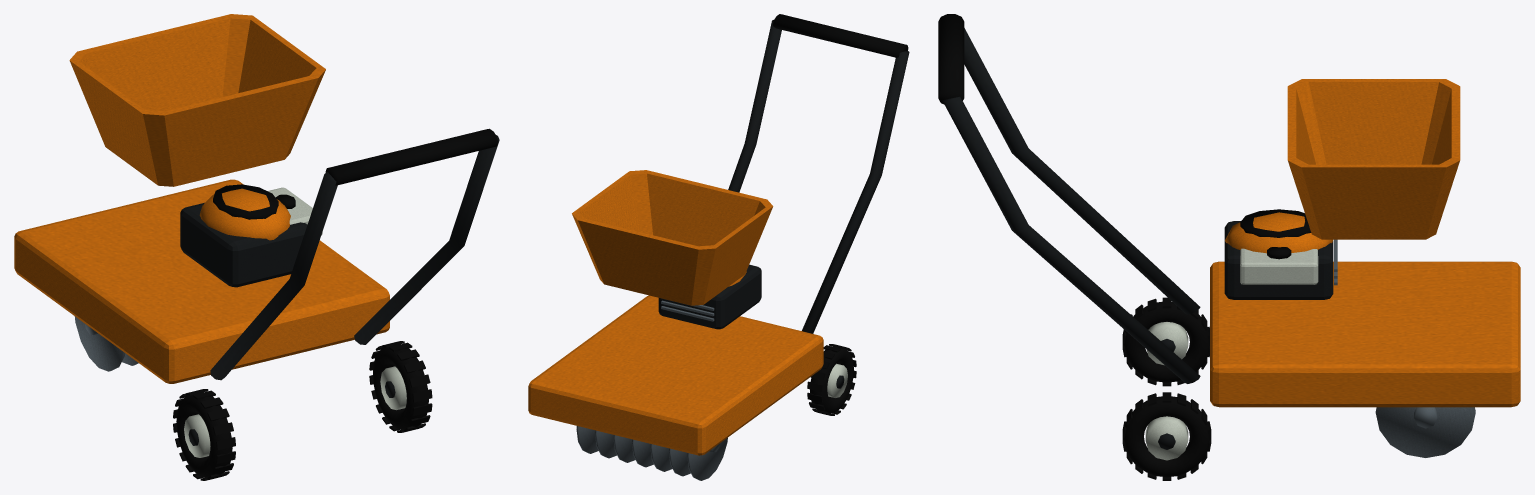
The model's file is SlitOverseeder.gltf.
The picture shows the model from 3 angles, left to right: view 1: azimuth 30°, elevation 25°; view 2: azimuth 150°, elevation 25°; view 3: azimuth 270°, elevation 25°; orthographic projection. The views are drawn at different scales.
Parts seen in each view (by area): view 1: SlitOverseeder__Body, SlitOverseeder__Wheel_Rear-1, SlitOverseeder__Wheel_Rear1, SlitOverseeder__Wheel_Blades; view 2: SlitOverseeder__Body, SlitOverseeder__Wheel_Blades, SlitOverseeder__Wheel_Rear-1; view 3: SlitOverseeder__Body, SlitOverseeder__Wheel_Rear1, SlitOverseeder__Wheel_Rear-1, SlitOverseeder__Wheel_Blades.
Part boxes in pixels (x1,y1,x2,y2): SlitOverseeder__Body: (14,14,499,383); SlitOverseeder__Wheel_Rear-1: (173,389,235,480); SlitOverseeder__Wheel_Rear1: (369,341,432,432); SlitOverseeder__Wheel_Blades: (74,316,138,371); SlitOverseeder__Body: (528,14,909,455); SlitOverseeder__Wheel_Blades: (576,426,727,480); SlitOverseeder__Wheel_Rear-1: (807,344,856,415); SlitOverseeder__Body: (938,14,1520,407); SlitOverseeder__Wheel_Rear1: (1122,392,1211,480); SlitOverseeder__Wheel_Rear-1: (1122,297,1209,386); SlitOverseeder__Wheel_Blades: (1375,407,1475,457).
Size of the model in its own units: 0.616 by 1 by 1.4.
Materials: 1 (1 with a texture image).
